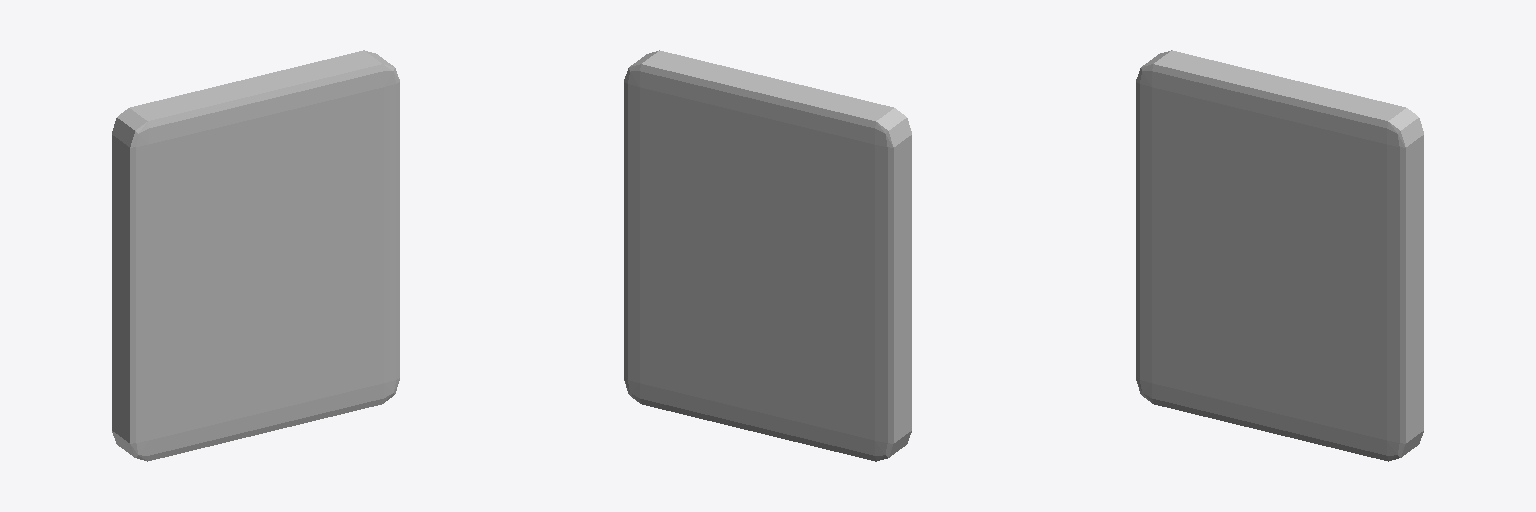
Rendered from SugarPacket_Topping.obj.
3 views of the same model, side by side, from view 1: azimuth 30°, elevation 25°; view 2: azimuth 150°, elevation 25°; view 3: azimuth 330°, elevation 25° (orthographic).
Parts seen in each view (by area): view 1: SugarPacket; view 2: SugarPacket; view 3: SugarPacket.
Part boxes in pixels (x1,y1,x2,y2): SugarPacket: (112,50,399,461); SugarPacket: (624,50,911,461); SugarPacket: (1136,50,1423,461).
Size of the model in its own units: 0.5964 by 0.7177 by 0.0824.